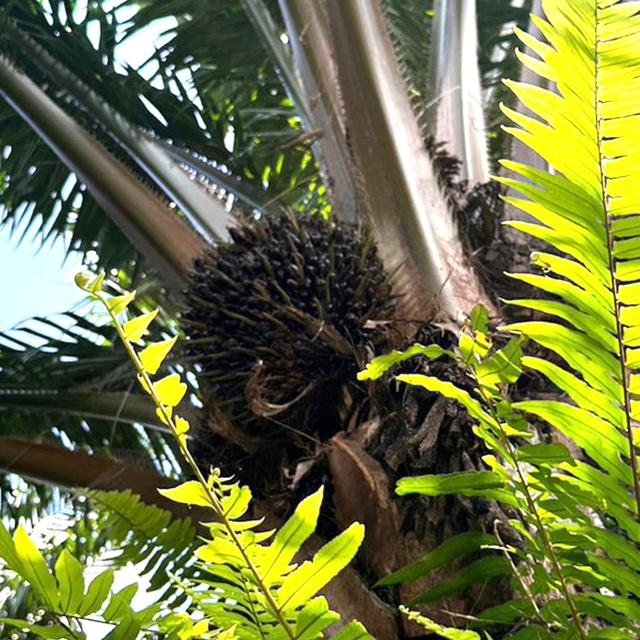almost: (163, 194, 416, 446)
